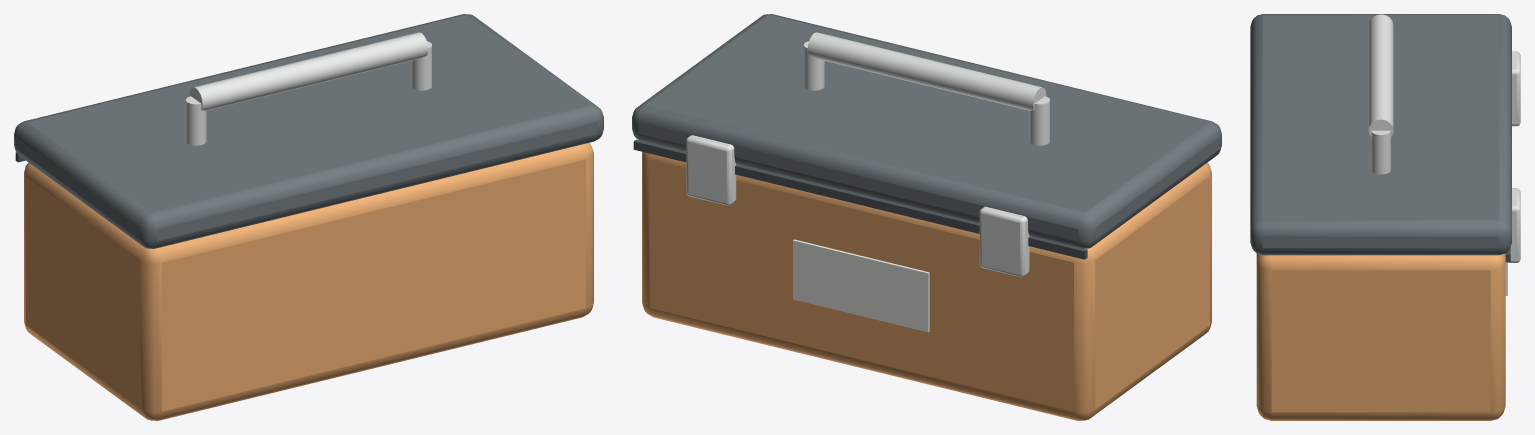
The model's file is toolbox.glb.
The picture shows the model from 3 angles, left to right: view 1: azimuth 30°, elevation 25°; view 2: azimuth 150°, elevation 25°; view 3: azimuth 270°, elevation 25°; orthographic projection. The views are drawn at different scales.
Visible parts, largest first — view 1: box_orange, lid_graphite, handle_satin_steel; view 2: box_orange, lid_graphite, label_white_painted, handle_satin_steel, latches_satin_steel, seal_black_rubber; view 3: lid_graphite, box_orange, handle_satin_steel, latches_satin_steel.
Boxes of the visible parts, box(x1,y1,x2,y2) form: box_orange: box(24, 143, 593, 420); lid_graphite: box(14, 14, 603, 248); handle_satin_steel: box(186, 32, 431, 145); box_orange: box(642, 152, 1211, 420); lid_graphite: box(632, 14, 1221, 248); label_white_painted: box(793, 239, 929, 332); handle_satin_steel: box(804, 32, 1049, 145); latches_satin_steel: box(686, 135, 1029, 277); seal_black_rubber: box(633, 139, 1087, 259); lid_graphite: box(1250, 14, 1511, 255); box_orange: box(1256, 253, 1505, 420); handle_satin_steel: box(1368, 14, 1393, 174); latches_satin_steel: box(1507, 51, 1520, 262).
Size of the model in its own units: 0.41 by 0.225 by 0.217.
